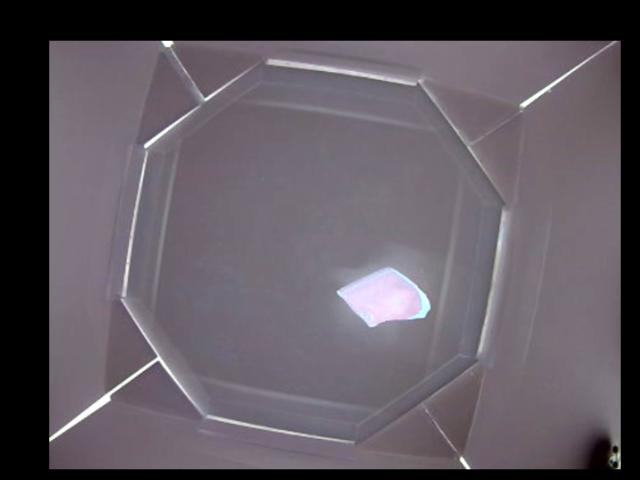China: (336, 265, 431, 324)
